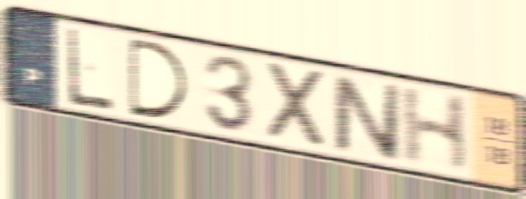3: (201, 54, 257, 135)
D: (125, 34, 194, 122)
H: (398, 84, 473, 176)
L: (65, 24, 117, 114)
N: (328, 70, 404, 165)
X: (264, 58, 331, 153)
